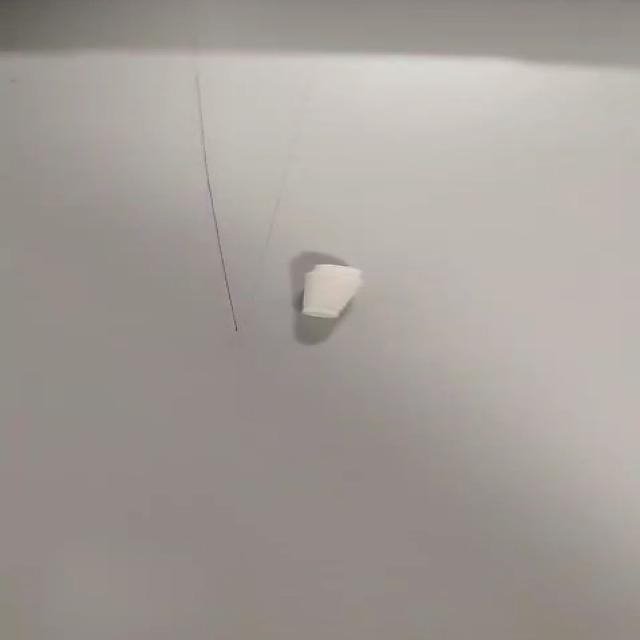Z1x1x1: (301, 262, 367, 322)
